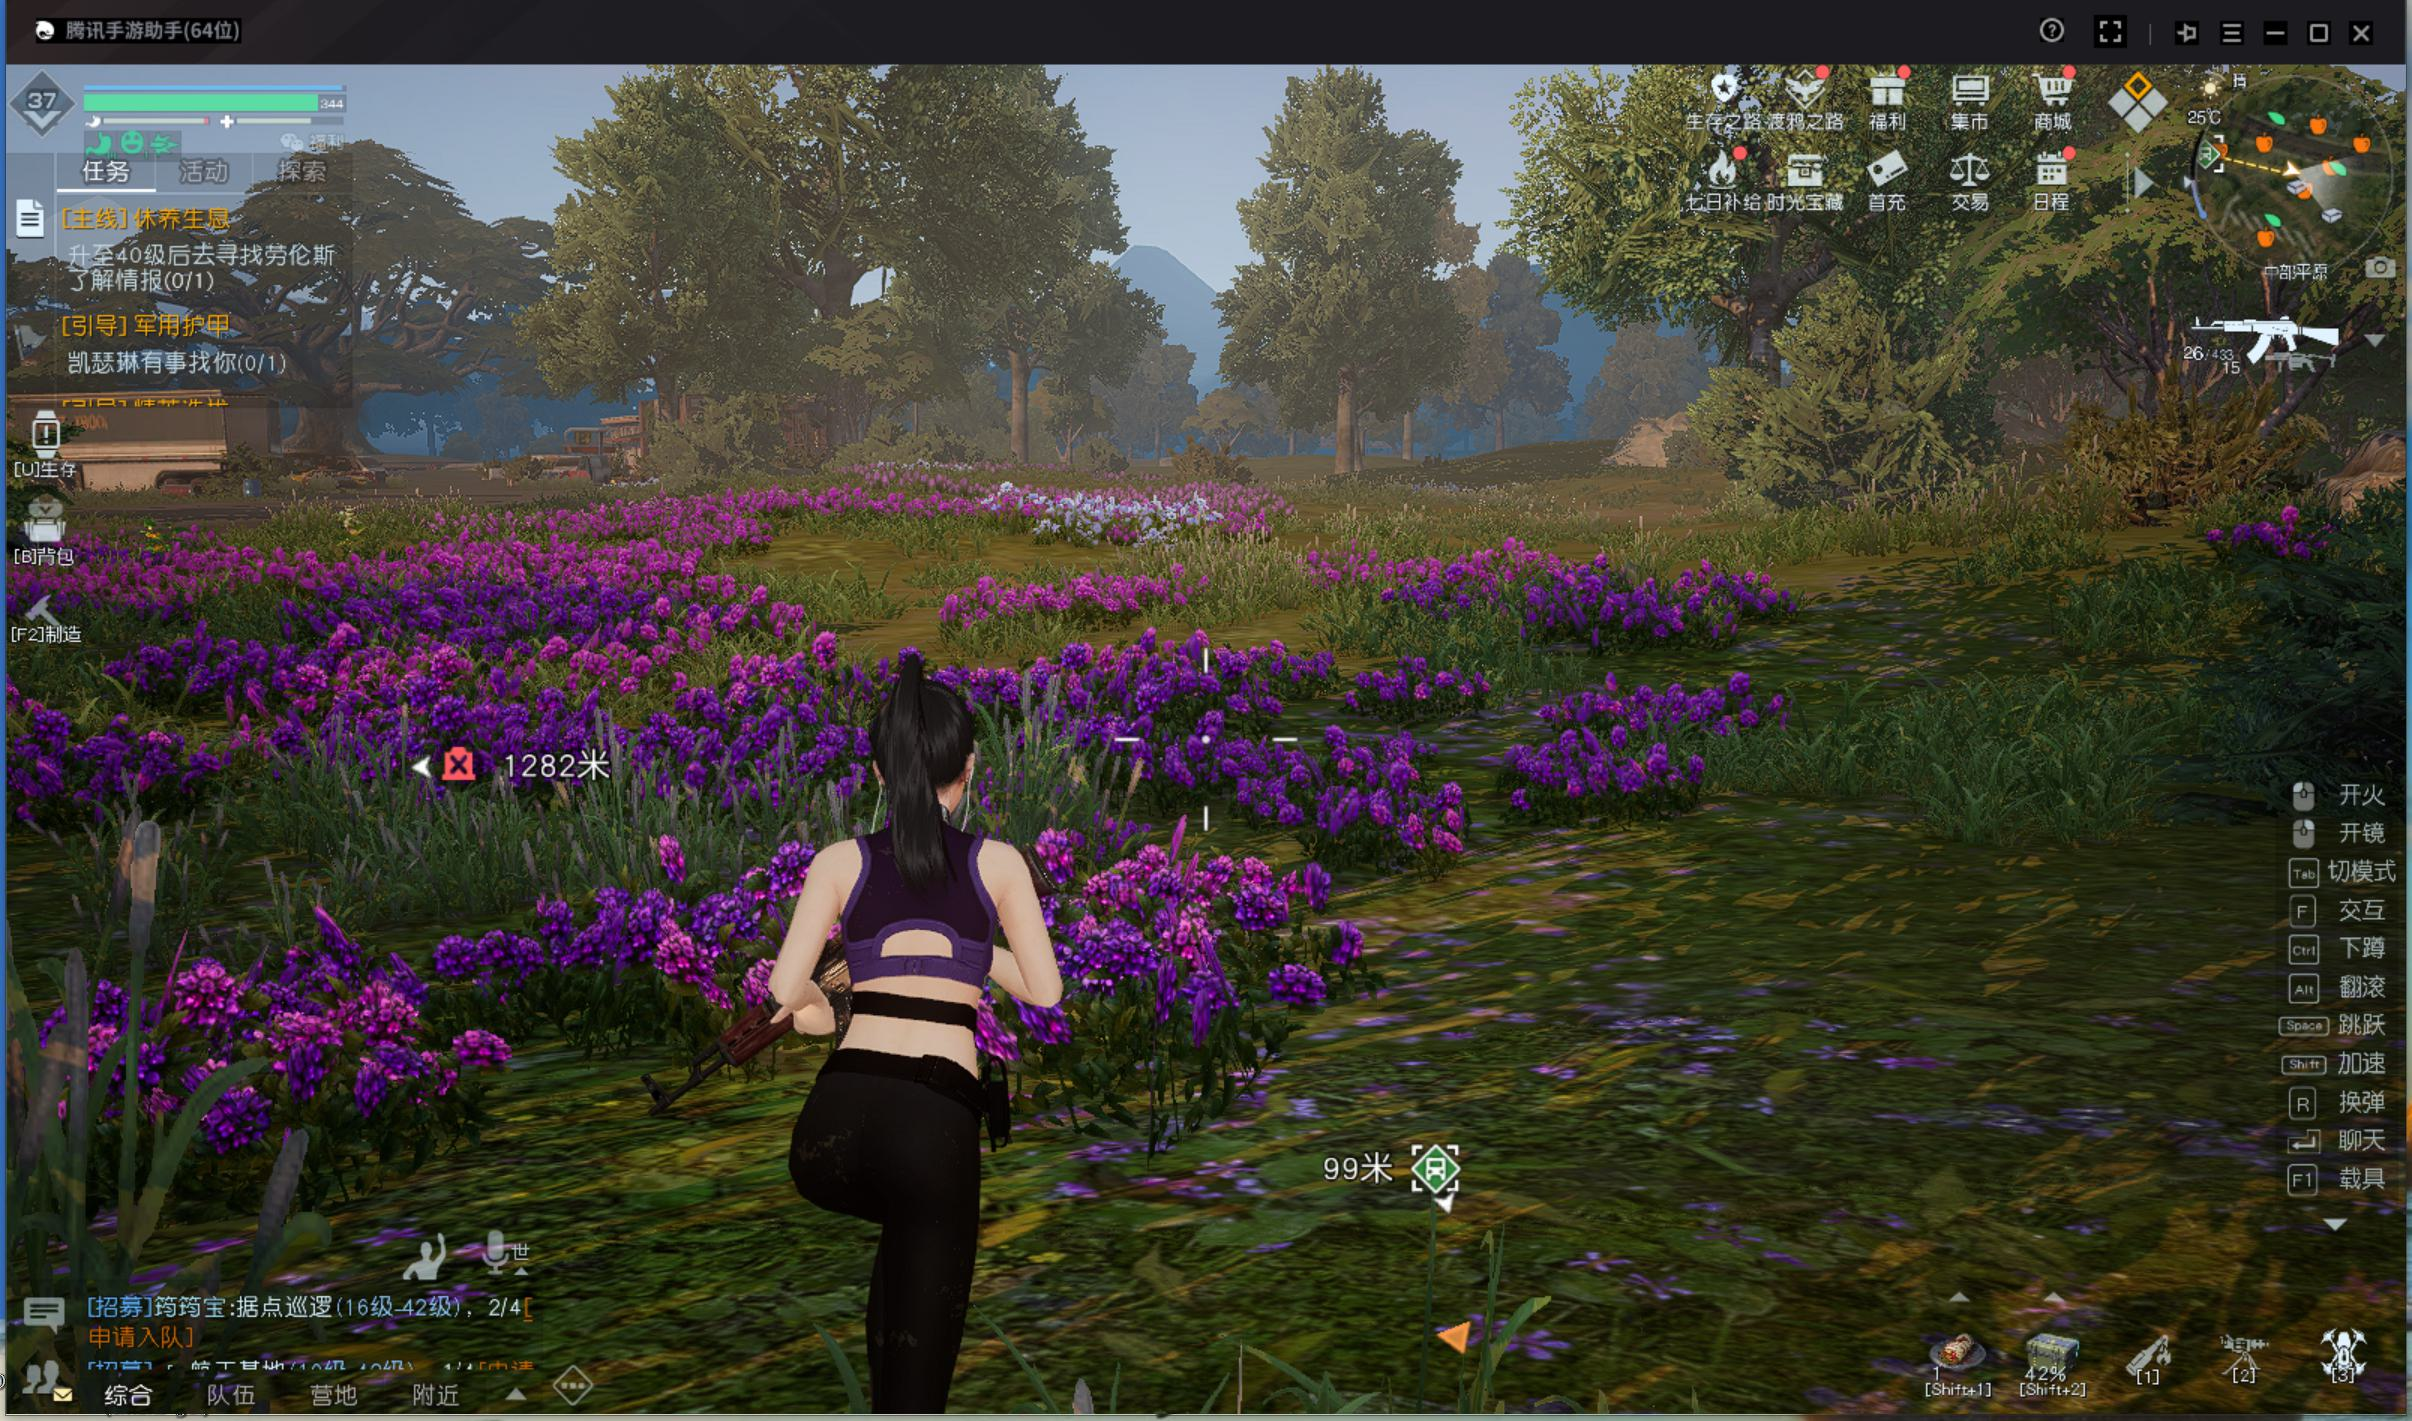tree: (1319, 362, 1367, 487), (1003, 364, 1039, 475)
